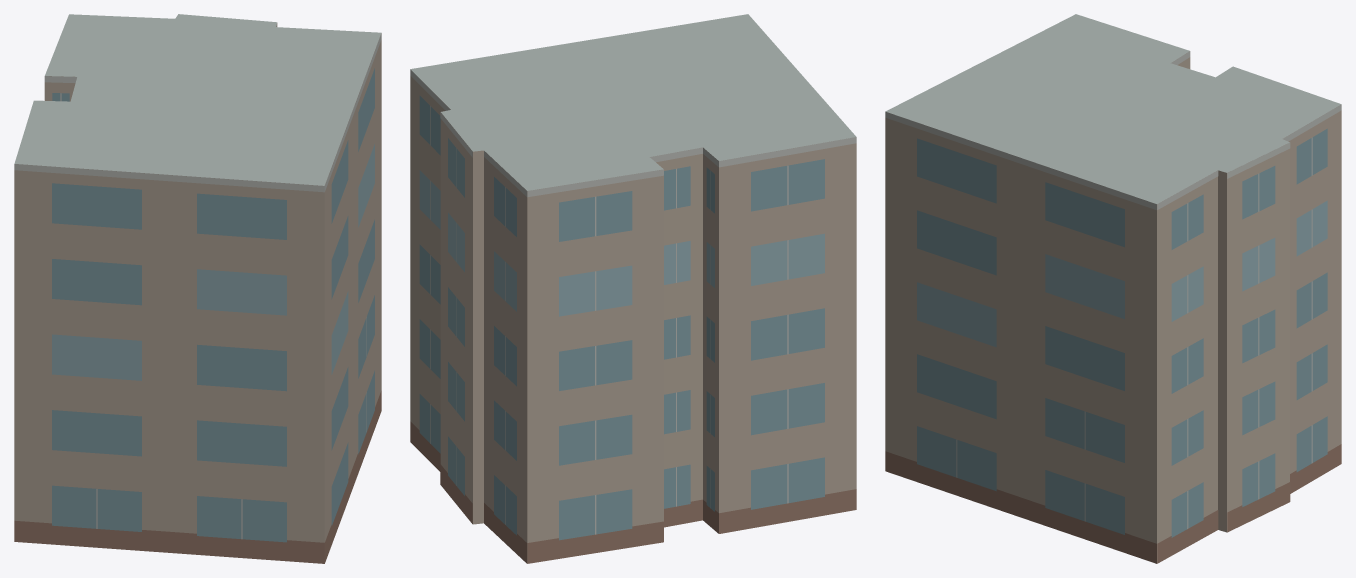
Rendered from survey-upis-32742529.glb.
The picture shows the model from 3 angles, left to right: view 1: azimuth 30°, elevation 25°; view 2: azimuth 150°, elevation 25°; view 3: azimuth 270°, elevation 25°; orthographic projection. The views are drawn at different scales.
Visible parts, largest first — view 1: survey-upis-32742529.tmp; view 2: survey-upis-32742529.tmp; view 3: survey-upis-32742529.tmp.
Boxes of the visible parts, bbox=[...] form: survey-upis-32742529.tmp: bbox=[14, 14, 381, 563]; survey-upis-32742529.tmp: bbox=[410, 14, 856, 563]; survey-upis-32742529.tmp: bbox=[885, 14, 1341, 563].
Size of the model in its own units: 16.4 by 14.45 by 16.63.
